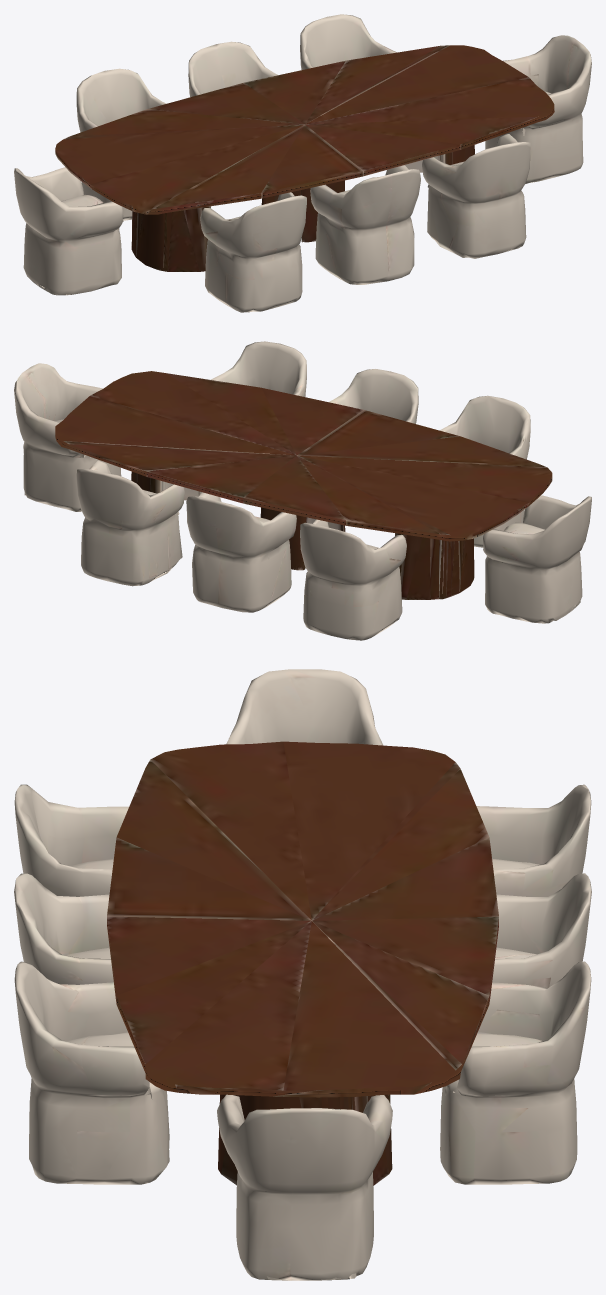
The model's file is table-boardroom.glb.
3 renders of one model, top to bottom at view 1: azimuth 30°, elevation 25°; view 2: azimuth 150°, elevation 25°; view 3: azimuth 270°, elevation 25°, orthographic. The views are drawn at different scales.
Bounding box in the file's own units: 0.9497 × 0.1875 × 0.5259.
1 material, 1 textured.
